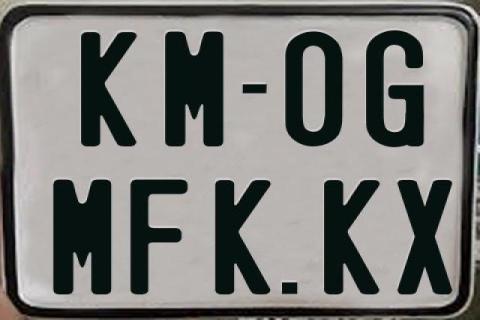0: (285, 31, 344, 147)
F: (129, 179, 191, 297)
G: (363, 28, 421, 146)
K: (80, 29, 140, 149), (321, 179, 383, 295), (212, 180, 272, 296)
M: (163, 30, 225, 146), (51, 178, 111, 296)
X: (396, 178, 455, 296)
